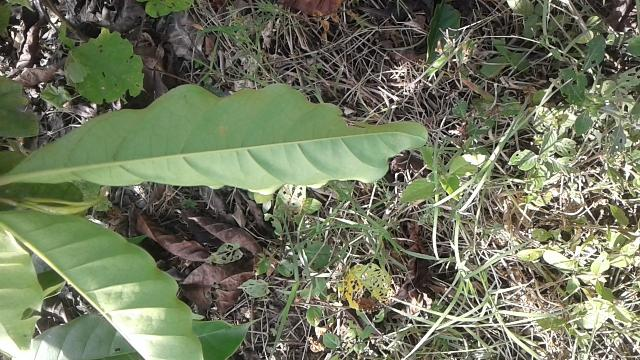rust_level_1: (2, 84, 432, 195)
